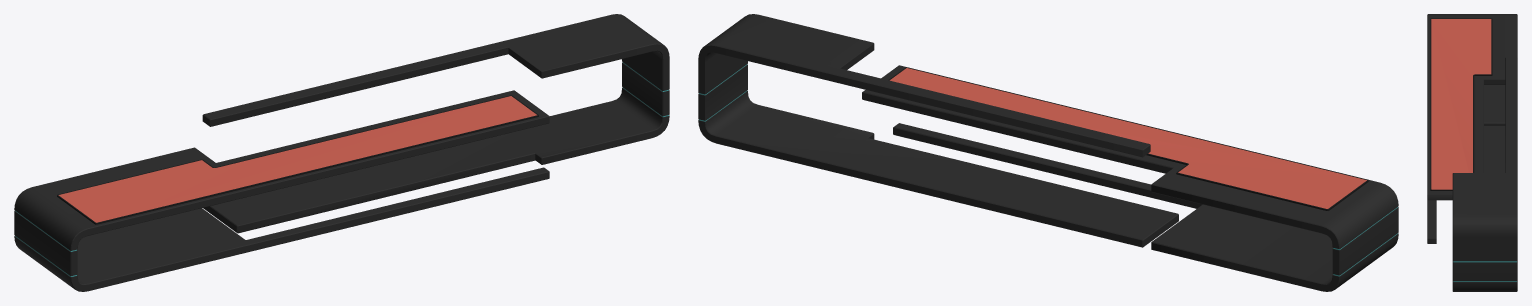
Rendered from W_O_Forum_Bench_001_a_L0.fbx.
3 renders of one model, left to right at view 1: azimuth 30°, elevation 25°; view 2: azimuth 150°, elevation 25°; view 3: azimuth 270°, elevation 25°, orthographic. The views are drawn at different scales.
Visible parts, largest first — view 1: W_O_Forum_Bench_001_a_L0; view 2: W_O_Forum_Bench_001_a_L0; view 3: W_O_Forum_Bench_001_a_L0.
Part boxes in pixels (x1,y1,x2,y2): W_O_Forum_Bench_001_a_L0: (14,14,669,291); W_O_Forum_Bench_001_a_L0: (698,14,1398,291); W_O_Forum_Bench_001_a_L0: (1427,14,1517,291).
Bounding box in the file's own units: 5 × 0.8 × 0.7313.
